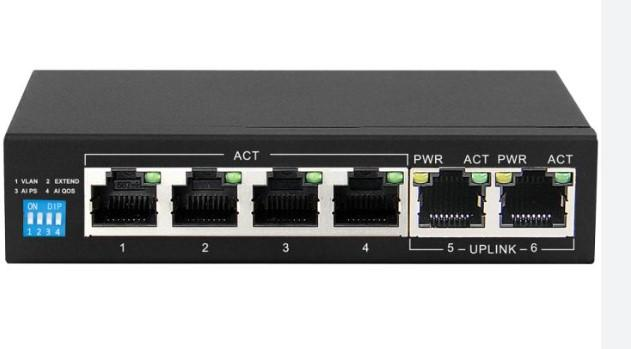NetworkSwitch: (0, 69, 600, 267)
